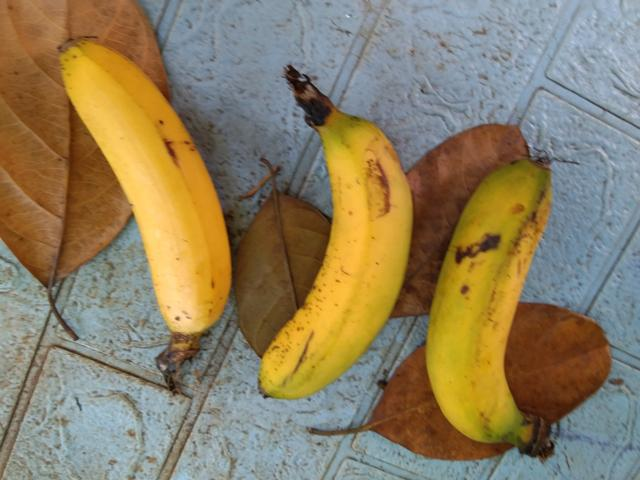freshripe: (41, 37, 250, 381)
ripe: (243, 71, 416, 432), (419, 145, 594, 465)
